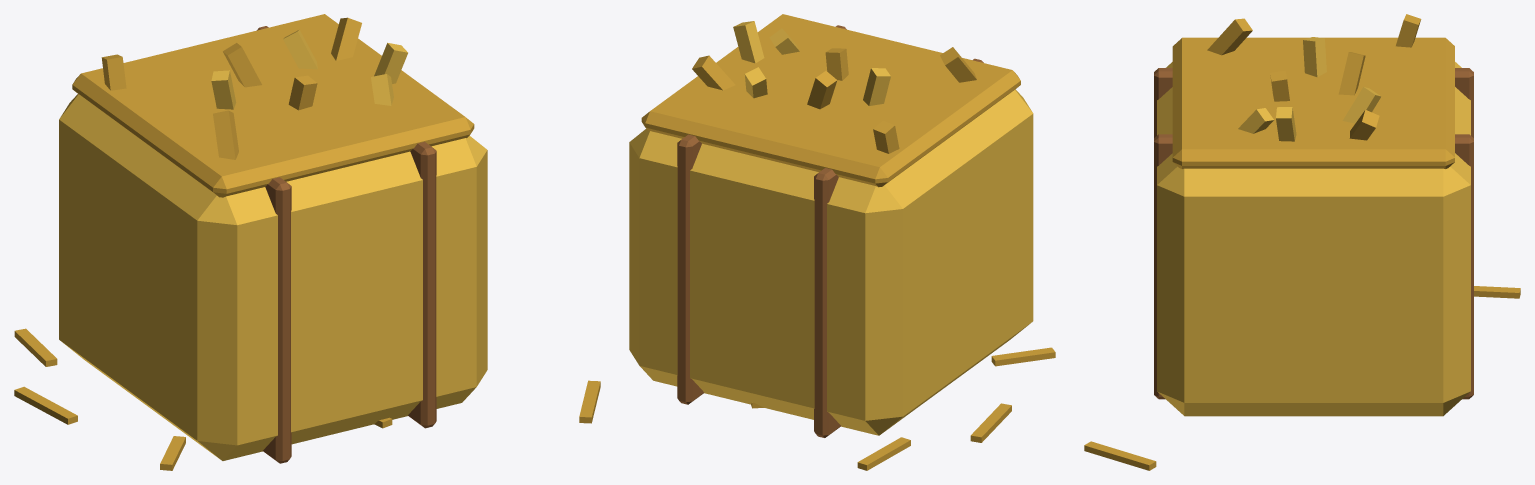
The model's file is hay_bale.glb.
3 views of the same model, side by side, from view 1: azimuth 30°, elevation 25°; view 2: azimuth 150°, elevation 25°; view 3: azimuth 270°, elevation 25° (orthographic). The views are drawn at different scales.
Visible parts, largest first — view 1: Fabric__EBBE46, Fabric__D2A236, Fabric__966234; view 2: Fabric__EBBE46, Fabric__D2A236, Fabric__966234; view 3: Fabric__EBBE46, Fabric__D2A236, Fabric__966234.
Part boxes in pixels (box(x1,y1,x2,y2)): Fabric__EBBE46: box(59, 29, 487, 460); Fabric__D2A236: box(14, 14, 600, 470); Fabric__966234: box(257, 26, 436, 463); Fabric__EBBE46: box(629, 21, 1033, 435); Fabric__D2A236: box(641, 14, 1055, 470); Fabric__966234: box(677, 25, 983, 437); Fabric__EBBE46: box(1157, 37, 1470, 416); Fabric__D2A236: box(1084, 14, 1520, 470); Fabric__966234: box(1154, 68, 1473, 399).
Size of the model in its own units: 6.18 by 4.31 by 5.57.
